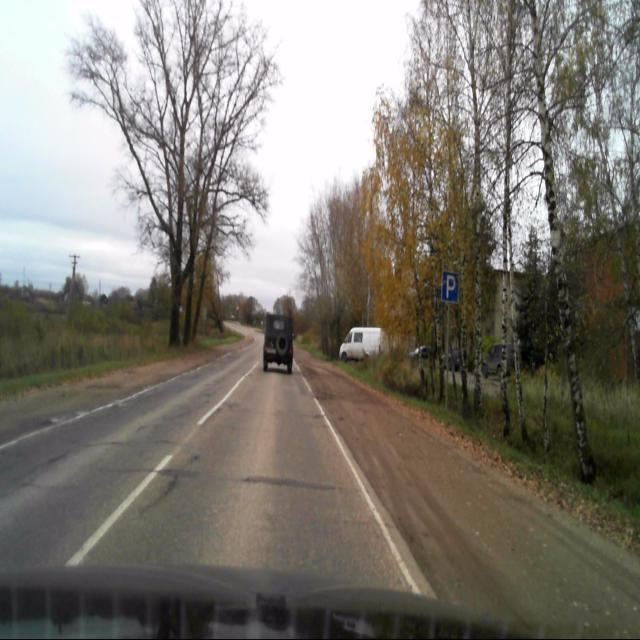road sign: (442, 271, 458, 301)
